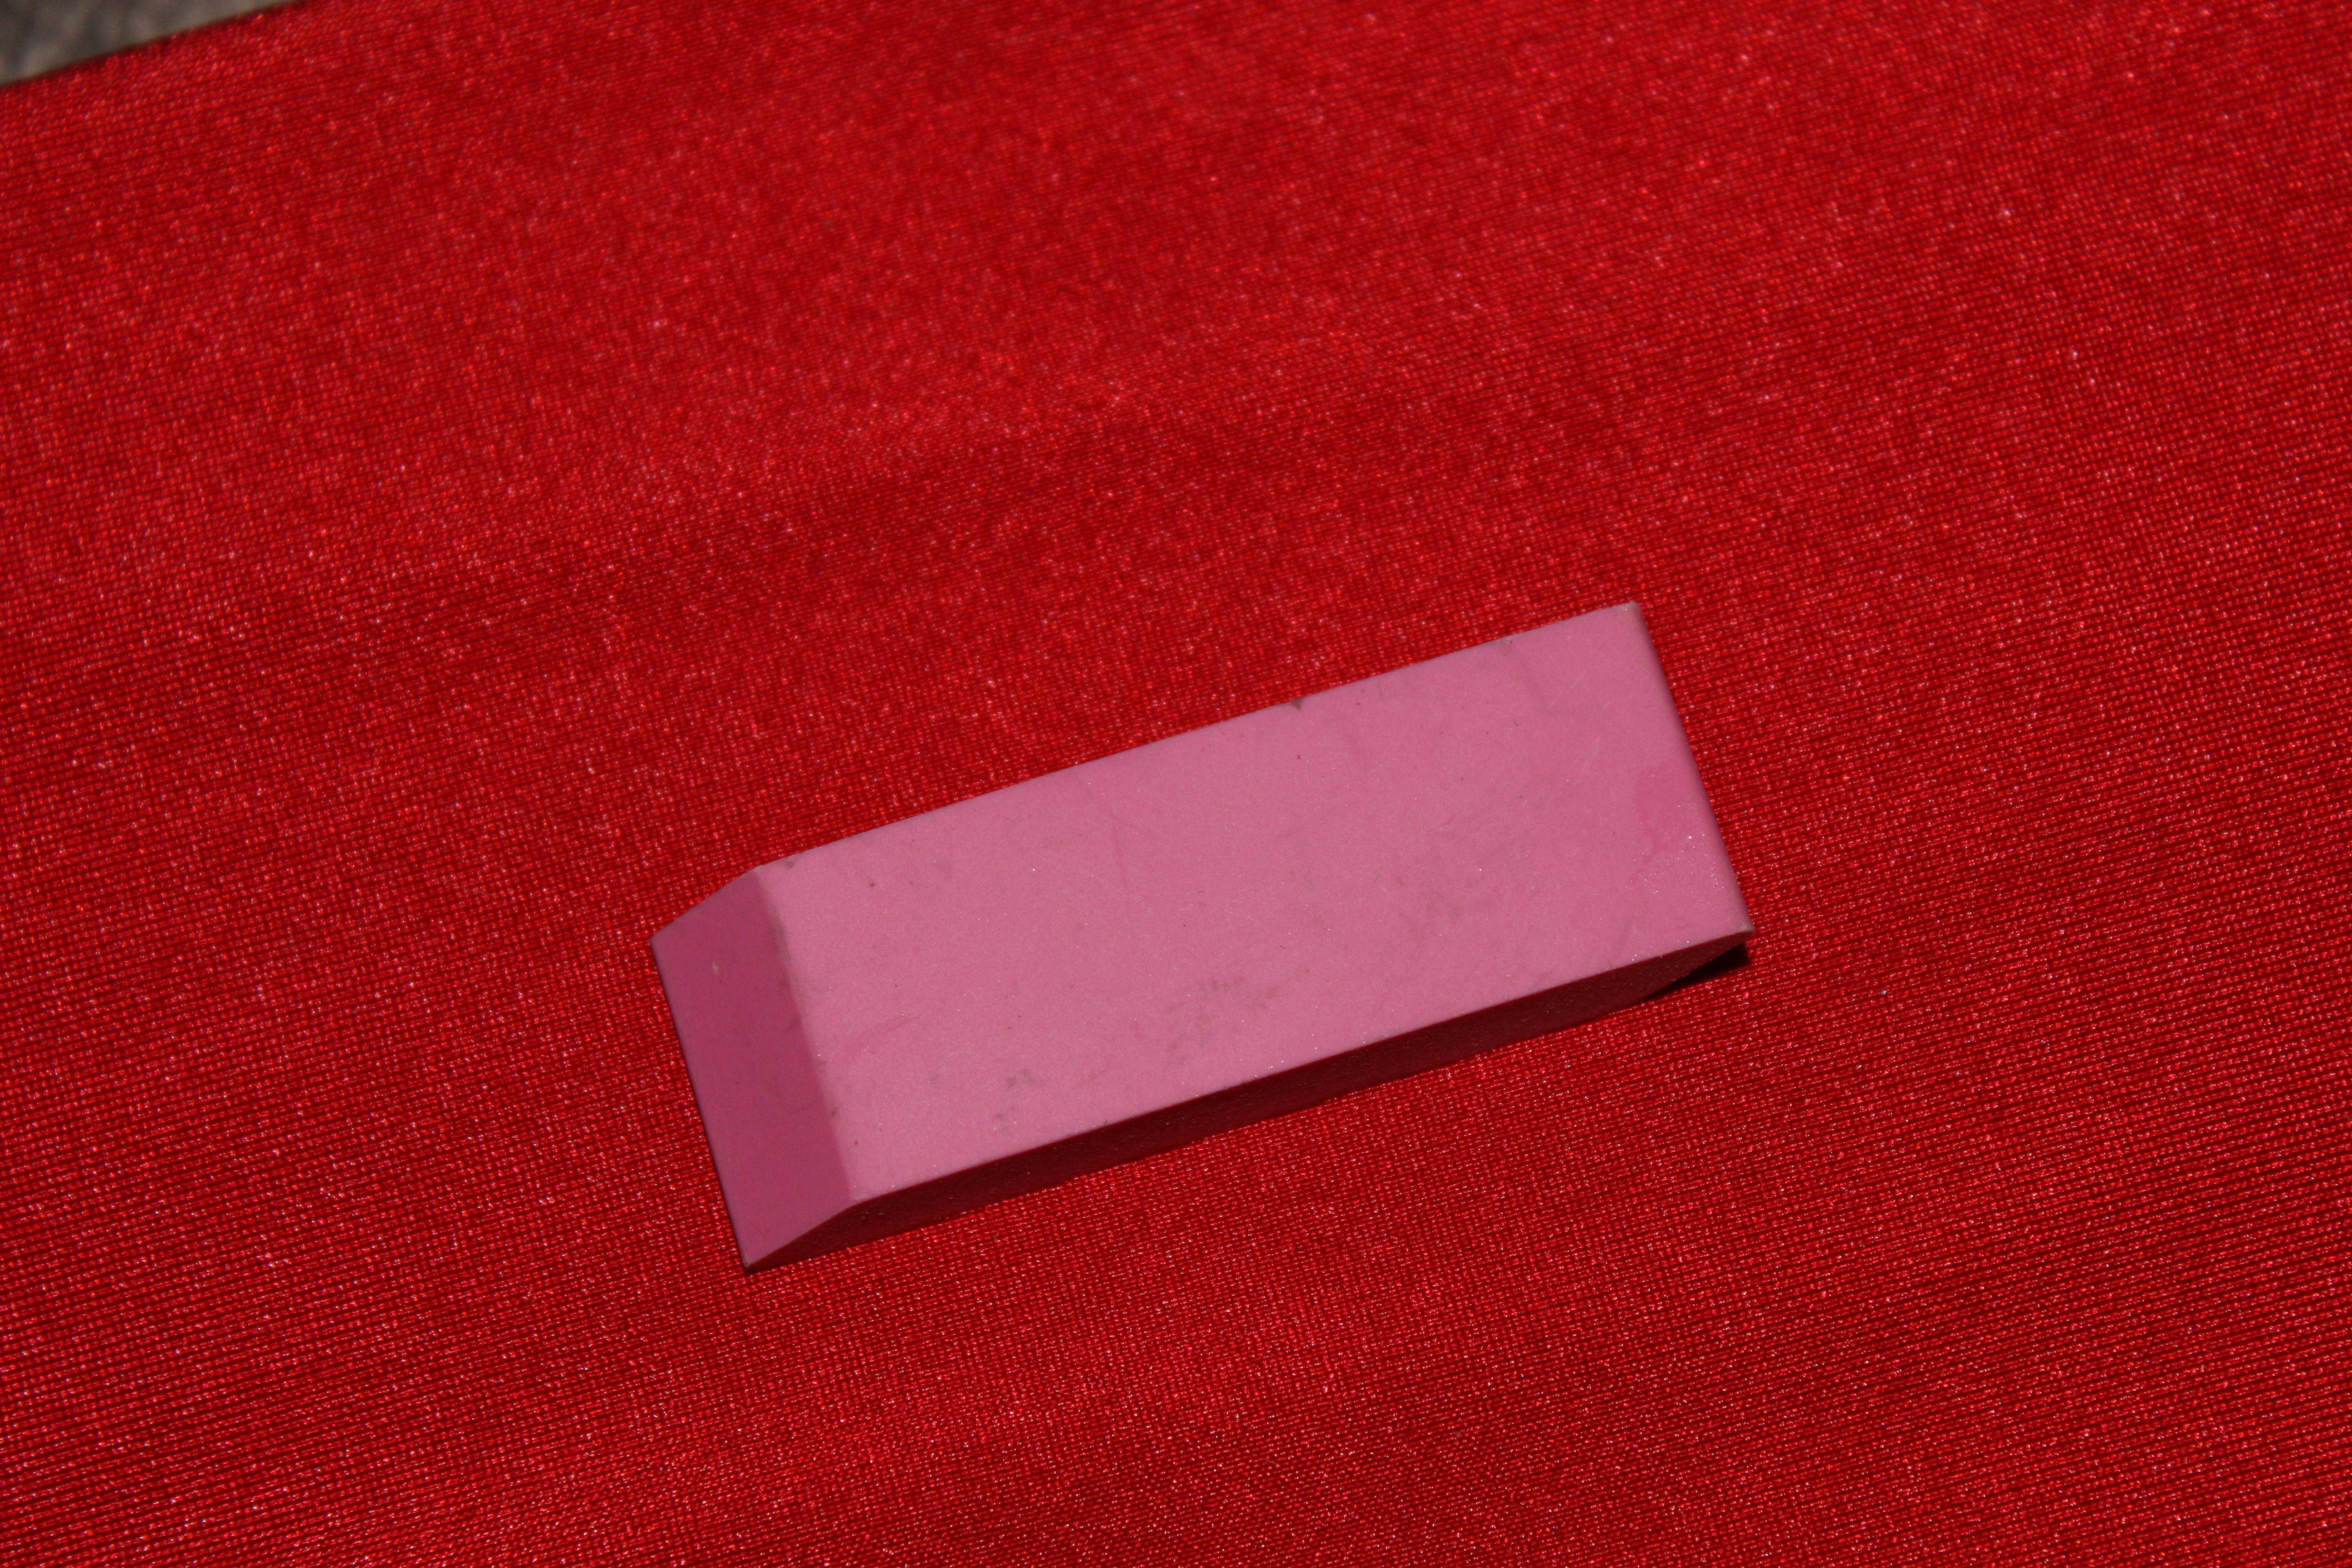pinkEraser: (626, 572, 1797, 1305)
